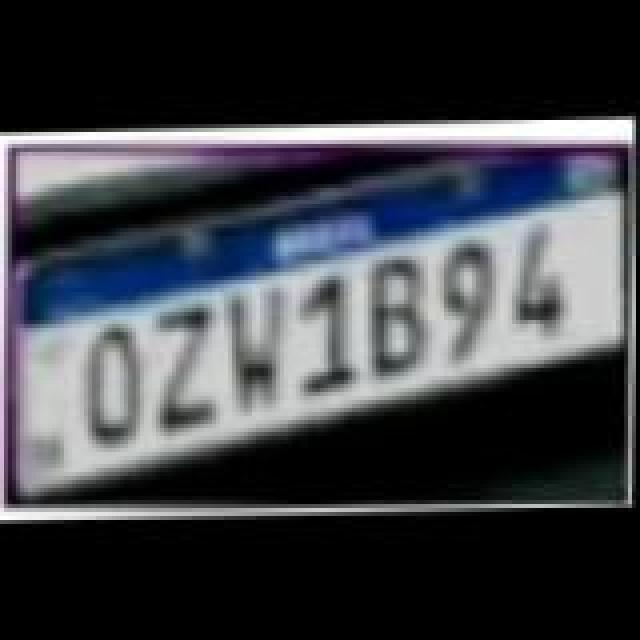1: (280, 270, 376, 398)
4: (496, 220, 584, 340)
9: (424, 242, 520, 366)
B: (358, 254, 450, 378)
O: (76, 326, 160, 450)
W: (216, 282, 304, 410)
Z: (144, 300, 232, 436)
